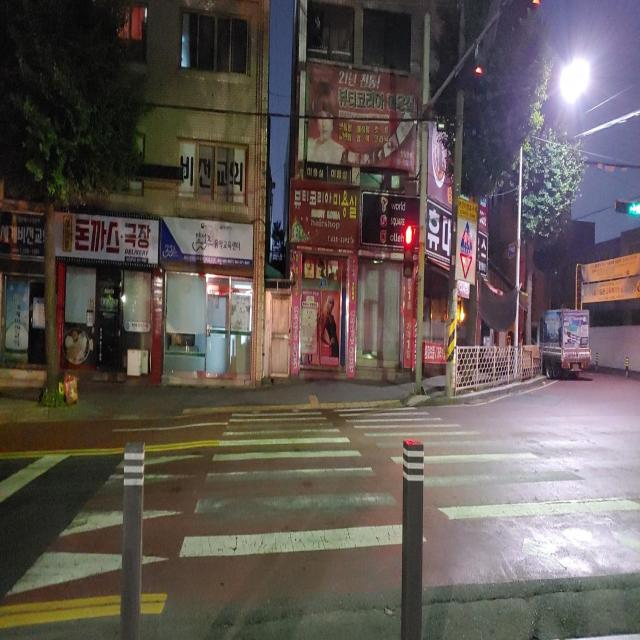빨간불: (402, 222, 414, 278)
횡단보도: (178, 405, 640, 560)
